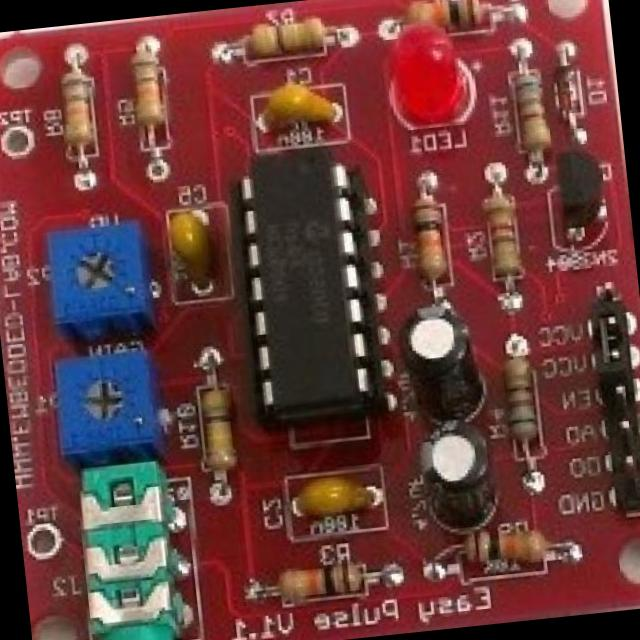IC: (246, 140, 390, 423)
LED: (381, 20, 466, 134)
capacitor: (400, 296, 487, 434), (421, 421, 501, 534), (250, 75, 346, 143), (287, 470, 378, 530), (165, 208, 217, 301)
connector: (74, 461, 191, 640), (589, 295, 640, 514)
diode: (551, 51, 590, 122)
potentiometer: (42, 337, 164, 466), (42, 215, 160, 342)
resistor: (254, 554, 384, 612), (405, 175, 463, 298), (482, 173, 532, 294), (124, 40, 172, 160), (54, 50, 100, 166), (459, 528, 551, 578), (196, 376, 240, 474), (503, 352, 542, 458), (242, 17, 331, 63), (383, 0, 499, 35), (511, 66, 551, 151)
